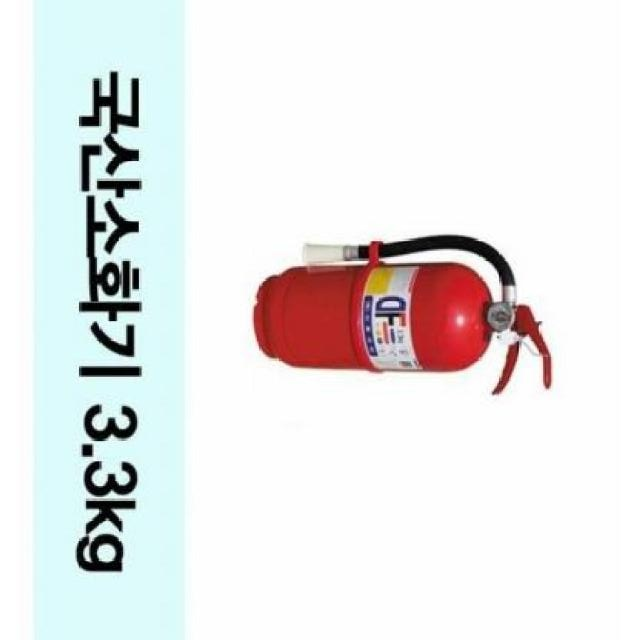fire extinguisher: (254, 234, 552, 395)
